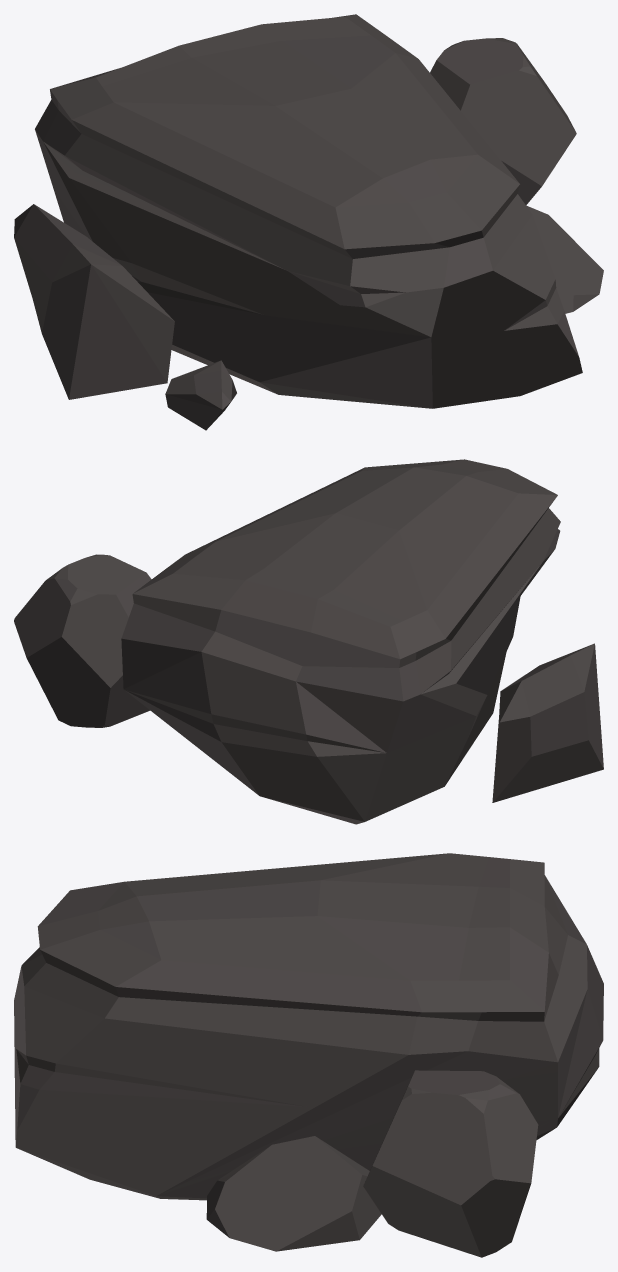
Rendered from Stone_03.glb.
3 renders of one model, top to bottom at view 1: azimuth 30°, elevation 25°; view 2: azimuth 150°, elevation 25°; view 3: azimuth 270°, elevation 25°, orthographic. The views are drawn at different scales.
Visible parts, largest first — view 1: Stone_03; view 2: Stone_03; view 3: Stone_03.
Part boxes in pixels (x1=…): Stone_03: x1=14, y1=14, x2=603, y2=430; Stone_03: x1=14, y1=459, x2=603, y2=824; Stone_03: x1=14, y1=853, x2=603, y2=1257.
Size of what is drawn, in the model's own units: 1.9 by 0.7837 by 1.65.
1 material, 1 textured.
